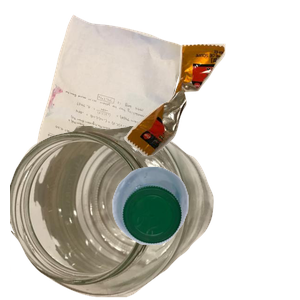glass: (10, 126, 216, 300)
paper: (33, 12, 214, 192)
plastic: (110, 164, 300, 300)
trash: (122, 41, 300, 190)
